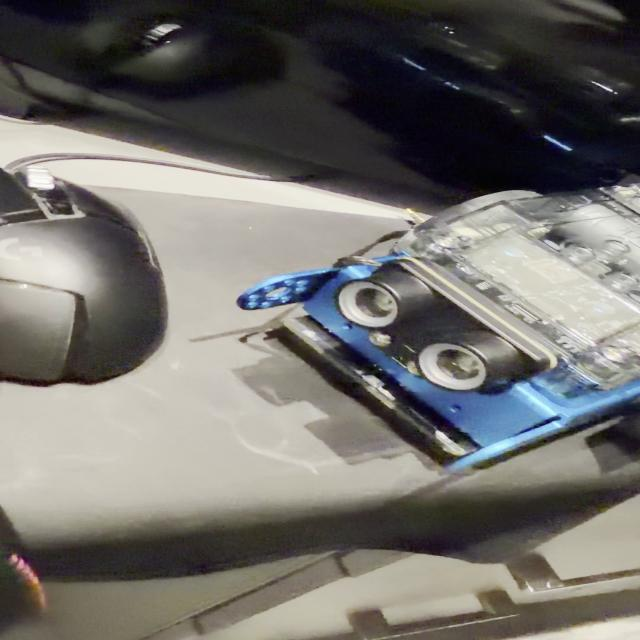mbot-detection: (232, 175, 640, 481)
